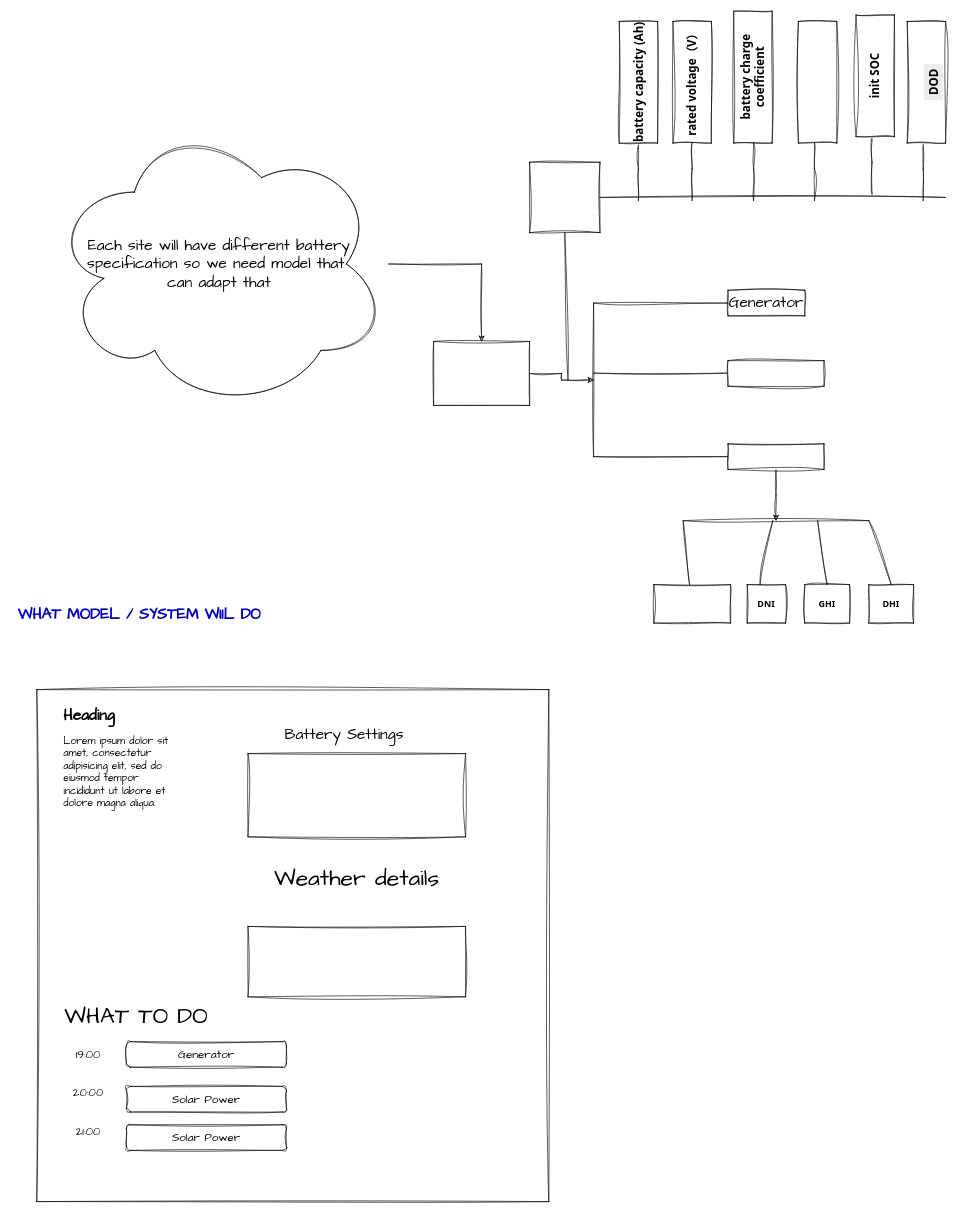
This 957x1213 diagram has some shape labels left out. Here are the shapes that lost their labels. From the top down, the box of each, then its label:
(798, 21, 837, 143): battery discharge coefficient
(529, 162, 600, 233): Battery
(433, 341, 530, 405): Site
(727, 360, 824, 386): National Grid
(727, 443, 824, 469): Solar Energy
(653, 584, 731, 623): Solar Zenith Angle
